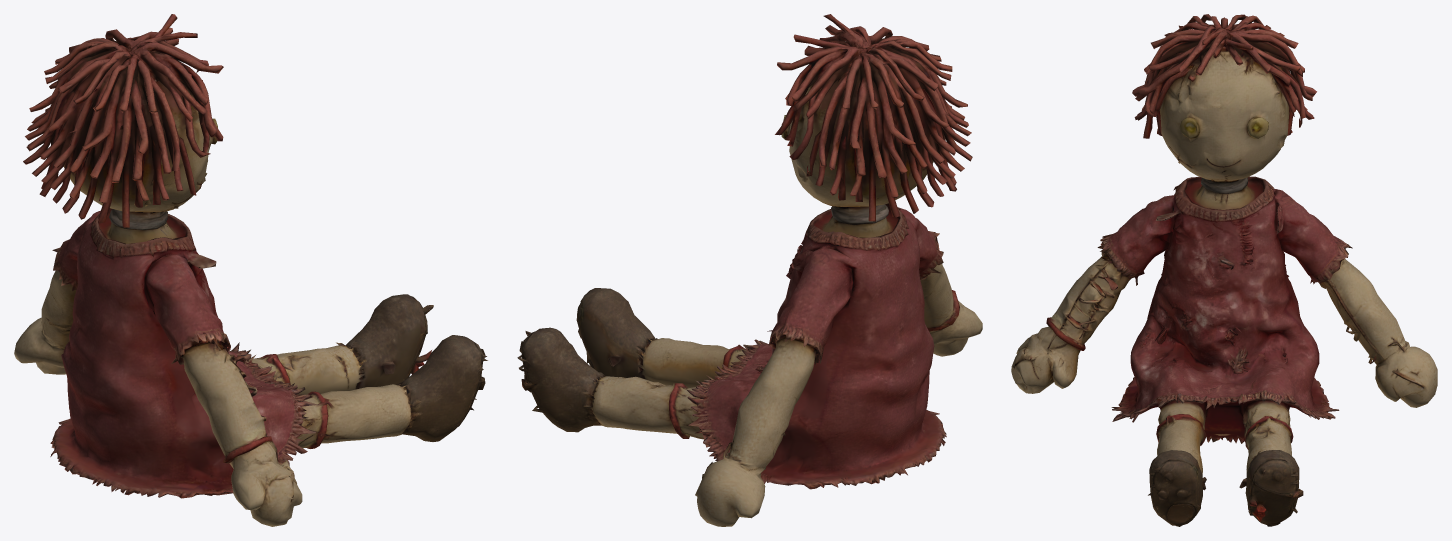
The picture shows the model from 3 angles, left to right: view 1: azimuth 30°, elevation 25°; view 2: azimuth 150°, elevation 25°; view 3: azimuth 270°, elevation 25°; orthographic projection. The views are drawn at different scales.
Parts seen in each view (by area): view 1: tripo_node_b26edae5-3448-45af-bc5a-cb3a5b6118d4; view 2: tripo_node_b26edae5-3448-45af-bc5a-cb3a5b6118d4; view 3: tripo_node_b26edae5-3448-45af-bc5a-cb3a5b6118d4.
Part boxes in pixels (box(x1,y1,x2,y2)): tripo_node_b26edae5-3448-45af-bc5a-cb3a5b6118d4: box(14, 14, 487, 526); tripo_node_b26edae5-3448-45af-bc5a-cb3a5b6118d4: box(517, 14, 982, 526); tripo_node_b26edae5-3448-45af-bc5a-cb3a5b6118d4: box(1011, 14, 1437, 526).
Bounding box in the file's own units: 0.9628 × 1 × 0.9887.
1 material, 1 textured.
